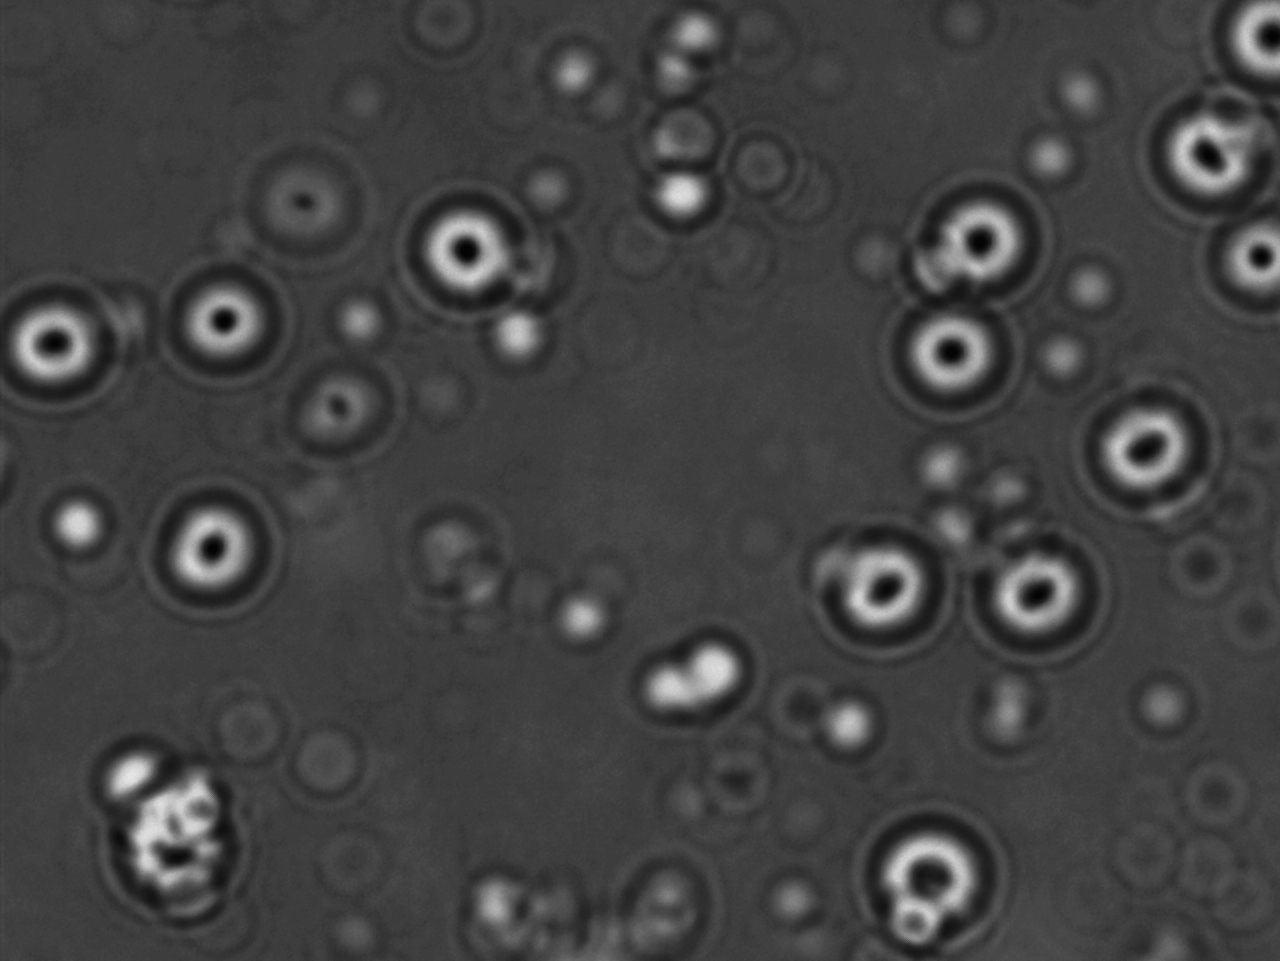depth:16: (957, 519, 1108, 661), (908, 174, 1064, 308), (811, 517, 958, 659), (143, 477, 287, 622), (877, 286, 1031, 419), (1077, 382, 1223, 515), (859, 805, 1005, 937), (1143, 94, 1272, 223), (161, 261, 290, 387), (406, 185, 530, 310), (1203, 209, 1280, 316)
